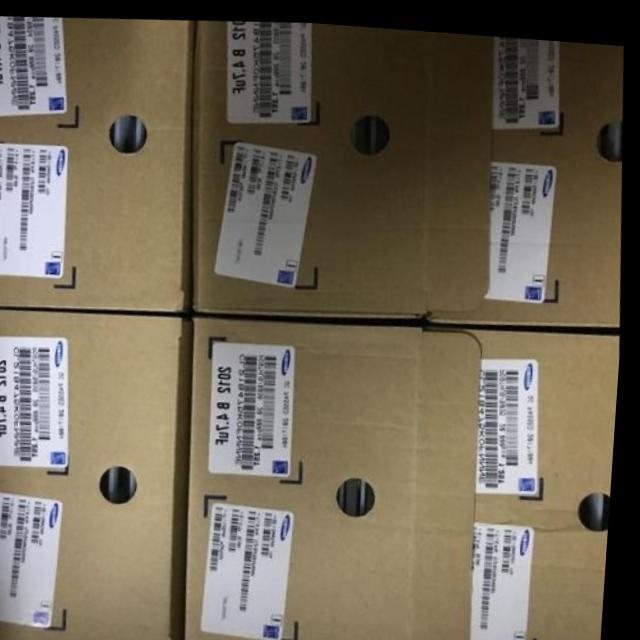box: (192, 312, 484, 640), (197, 17, 494, 319), (0, 308, 199, 640), (430, 321, 624, 640), (0, 16, 196, 314), (429, 29, 624, 323)
